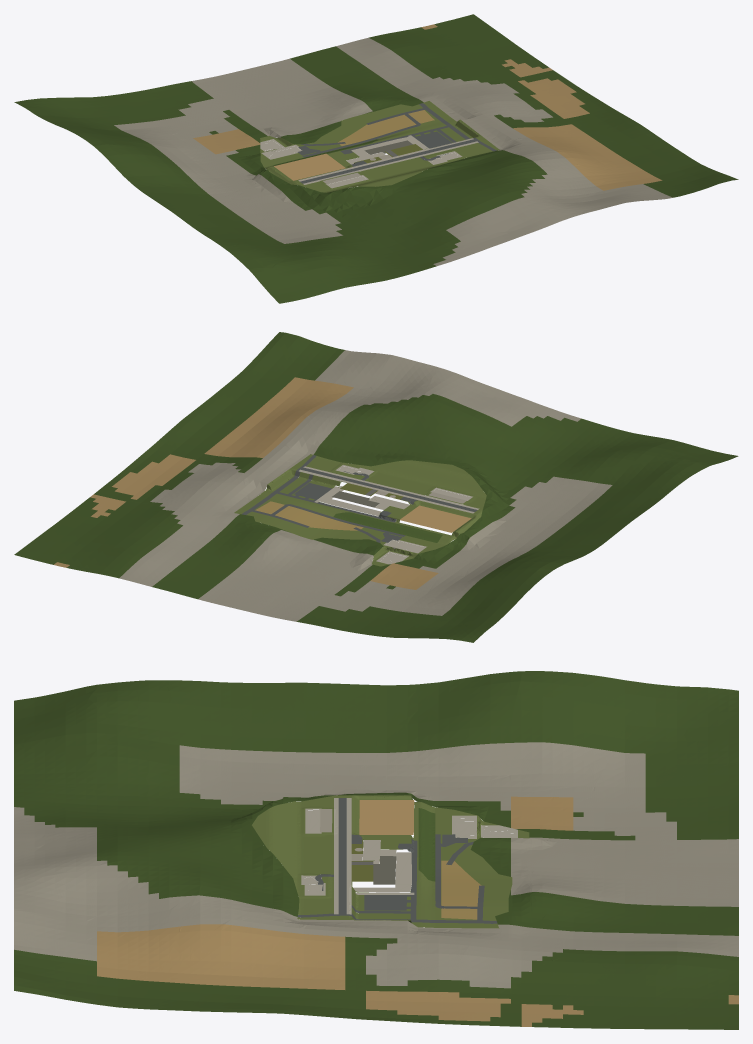
3 renders of one model, top to bottom at view 1: azimuth 30°, elevation 25°; view 2: azimuth 150°, elevation 25°; view 3: azimuth 270°, elevation 25°, orthographic. The views are drawn at different scales.
Visible parts, largest first — view 1: ground_context-estimated, surface_school-planting, surface_north-meadow, surface_field, surface_avenue; view 2: ground_context-estimated, surface_school-planting, surface_north-meadow, surface_field, surface_forest-embankment, surface_avenue; view 3: ground_context-estimated, surface_school-planting, surface_field, surface_north-meadow, surface_forest-embankment, surface_avenue, surface_avenue-walk-north, surface_parking-1260694249, surface_courtyard, surface_avenue-walk-south.
Boxes of the visible parts, x1,y1,x2,y2 form: ground_context-estimated: (14,14,738,303); surface_school-planting: (260,101,499,192); surface_north-meadow: (338,110,434,145); surface_field: (274,153,345,180); surface_avenue: (300,138,478,183); ground_context-estimated: (14,332,738,642); surface_school-planting: (234,454,486,566); surface_north-meadow: (255,501,363,530); surface_field: (400,505,471,532); surface_forest-embankment: (333,512,442,542); surface_avenue: (298,467,477,511); ground_context-estimated: (14,671,738,1029); surface_school-planting: (252,795,529,928); surface_field: (359,800,414,834); surface_north-meadow: (441,860,481,919); surface_forest-embankment: (418,808,435,881); surface_avenue: (338,798,346,915); surface_avenue-walk-north: (346,798,351,914); surface_parking-1260694249: (364,895,406,910); surface_courtyard: (373,856,396,884); surface_avenue-walk-south: (334,798,338,914).
Bounding box in the file's own units: 840 × 67.9 × 840.
Materials: 13 (13 with a texture image).
